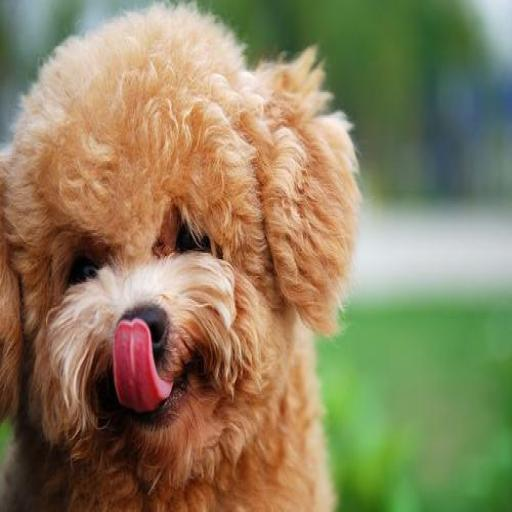dog_face: (2, 16, 358, 467)
